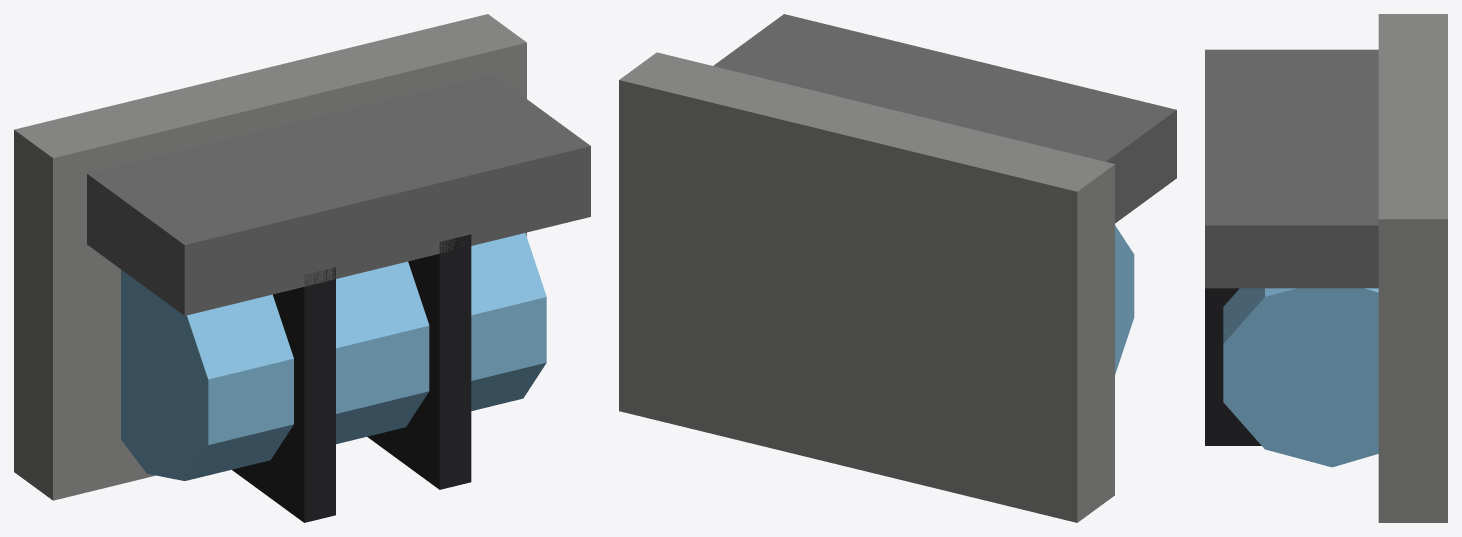
File: vge_station_light_blue.obj
3 views of the same model, side by side, from view 1: azimuth 30°, elevation 25°; view 2: azimuth 150°, elevation 25°; view 3: azimuth 270°, elevation 25° (orthographic). The views are drawn at different scales.
Visible parts, largest first — view 1: oc_emergency_light_red_1, oc_emergency_light_red_0, oc_emergency_light_red_2, oc_emergency_light_red_4, oc_emergency_light_red_3; view 2: oc_emergency_light_red_0, oc_emergency_light_red_1, oc_emergency_light_red_2; view 3: oc_emergency_light_red_1, oc_emergency_light_red_0, oc_emergency_light_red_2, oc_emergency_light_red_4.
Boxes of the visible parts, <box> form: oc_emergency_light_red_1: <box>87,74,590,315</box>; oc_emergency_light_red_0: <box>14,14,526,500</box>; oc_emergency_light_red_2: <box>121,233,546,480</box>; oc_emergency_light_red_4: <box>367,234,471,489</box>; oc_emergency_light_red_3: <box>232,267,335,522</box>; oc_emergency_light_red_0: <box>619,52,1114,522</box>; oc_emergency_light_red_1: <box>713,14,1176,223</box>; oc_emergency_light_red_2: <box>1115,225,1134,374</box>; oc_emergency_light_red_1: <box>1205,49,1378,288</box>; oc_emergency_light_red_0: <box>1378,14,1447,522</box>; oc_emergency_light_red_2: <box>1223,288,1378,467</box>; oc_emergency_light_red_4: <box>1205,288,1261,445</box>.
Bounding box in the file's own units: 0.42 × 0.29 × 0.21.
